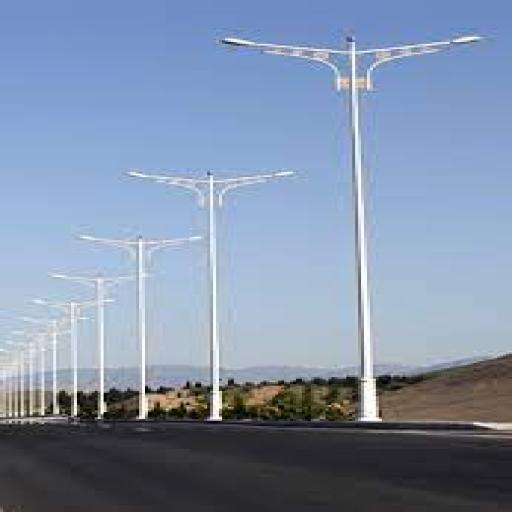Light-pole: (230, 21, 512, 425), (136, 152, 300, 427), (80, 224, 208, 410), (51, 268, 143, 412)
